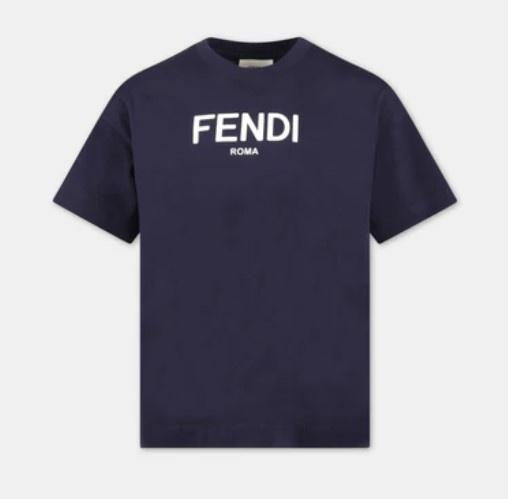FENDI: (192, 113, 299, 145)
